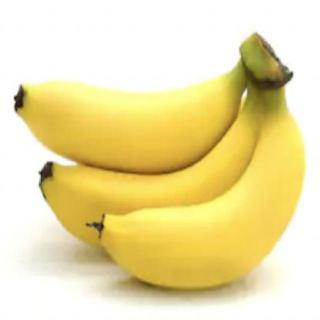banana: (83, 113, 306, 291), (35, 107, 279, 257), (12, 70, 242, 178)
